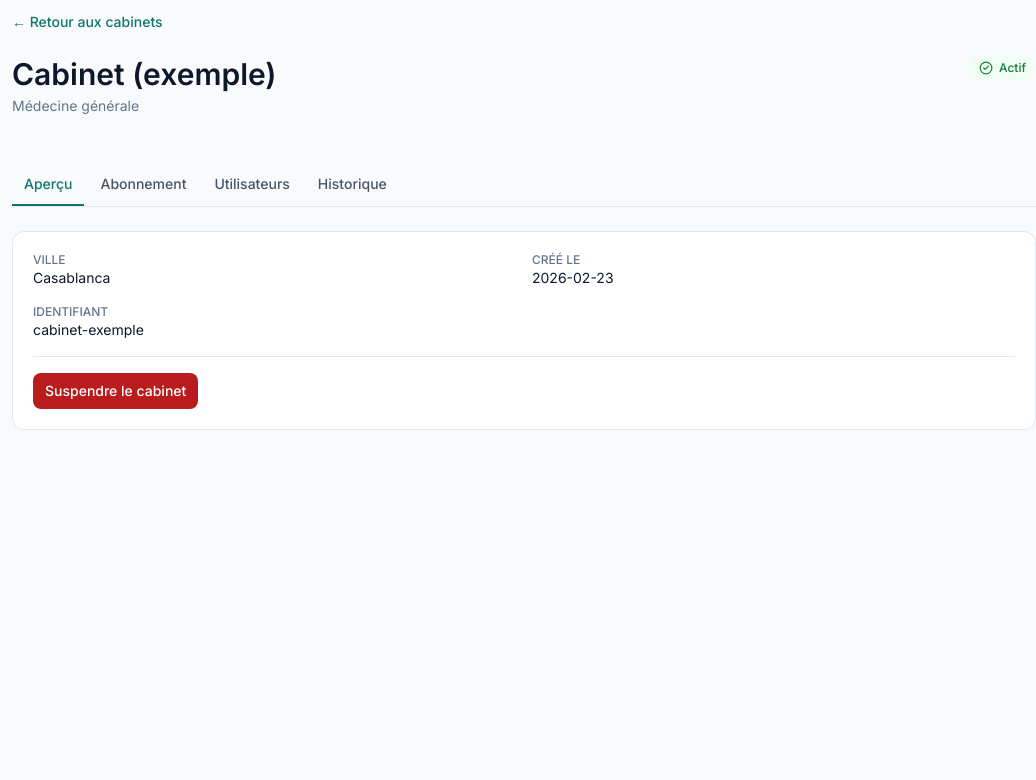
Scenario: TenantDetailPage › Users tab lists tenant-1's real 5 users, marking Youssef Benali as owner
This screenshot has width=1036, height=780.
Step 1. Click the tab "Utilisateurs" → [252, 185], box [202,164,302,206]
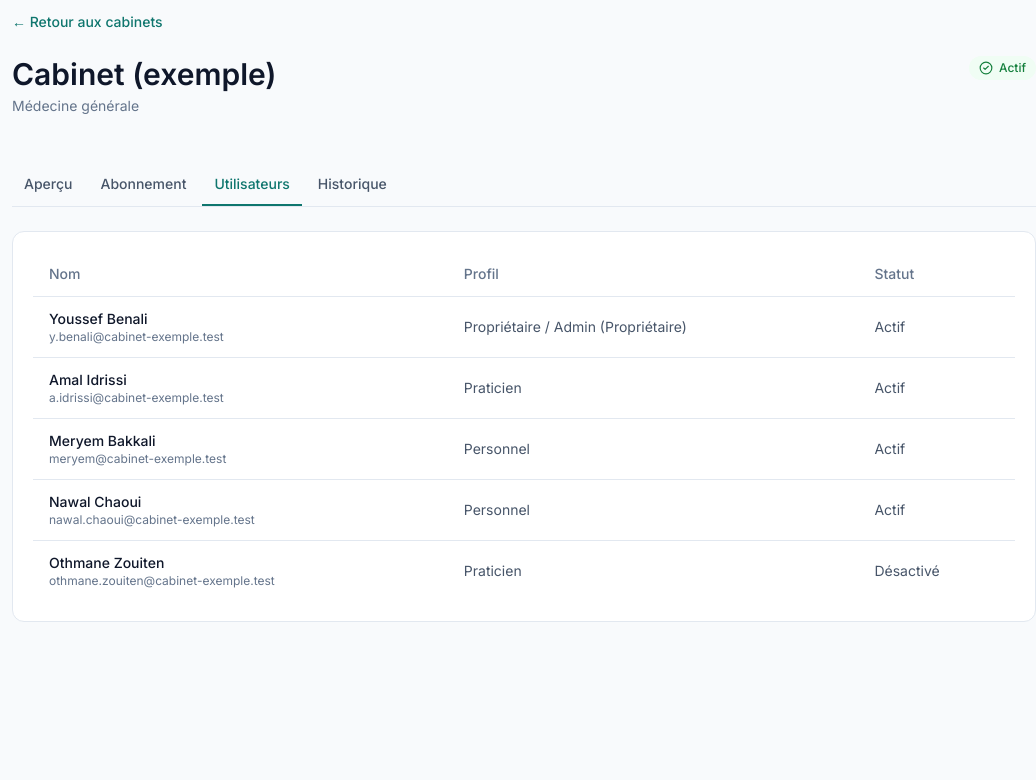
Check: the text "Youssef Benali" is shown, box [49,310,148,327]
Check: the text "Propriétaire / Admin (Propriétaire)" is shown, box [448,296,858,358]
Check: the number of rows is 6, box [33,252,1015,296]; [33,296,1015,358]; [33,358,1015,418]; [33,418,1015,480]; [33,480,1015,540]; [33,540,1015,601]
